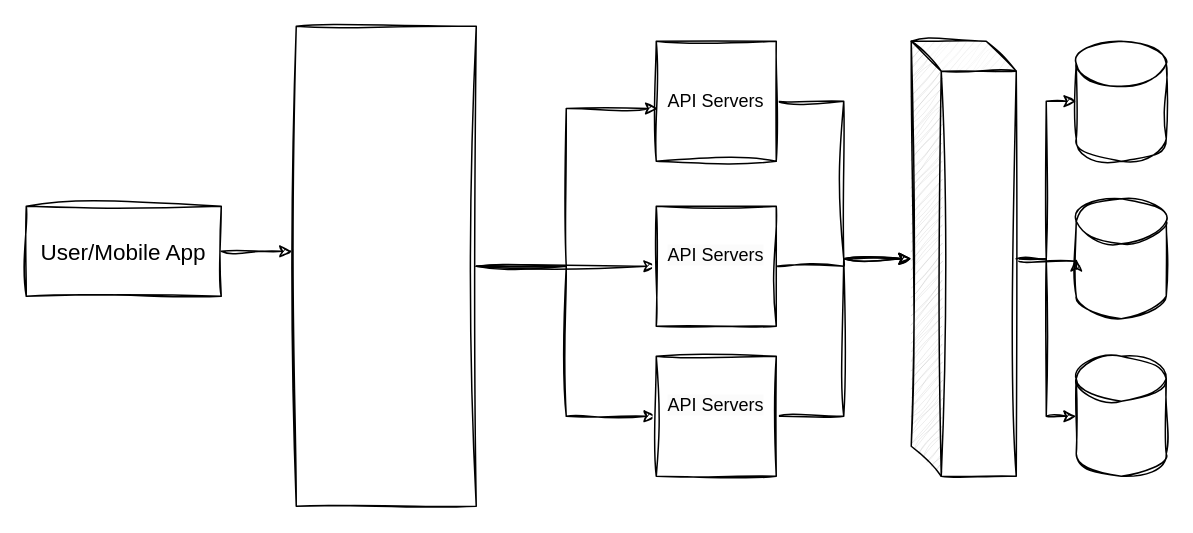
This 1193x533 diagram has some shape labels left out. Here are the shapes that lost their labels. From the top down, the centre of each, then its label:
[385,265]: Load Balancer
[963,258]: REDIS
